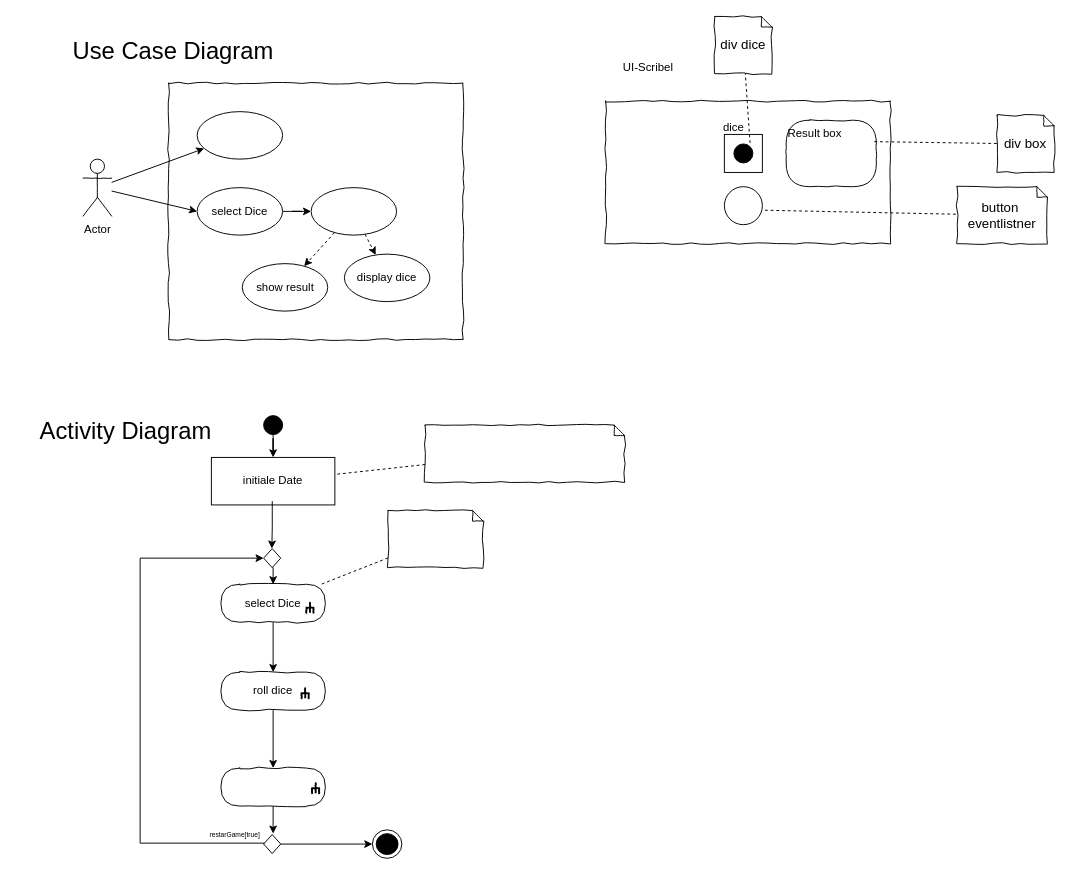
Image size: 1071x875. Some labels were removed from this diagram. Each missing label, with the centre of its shape:
Button: (x=742, y=205)
dice d4, d6, d8, d10, d12, d20: (x=435, y=539)
display result: (x=272, y=786)
let restartGame: bool let dice [type:] dice calc result: (x=524, y=453)
press button: (x=353, y=211)
Start: (x=239, y=135)
